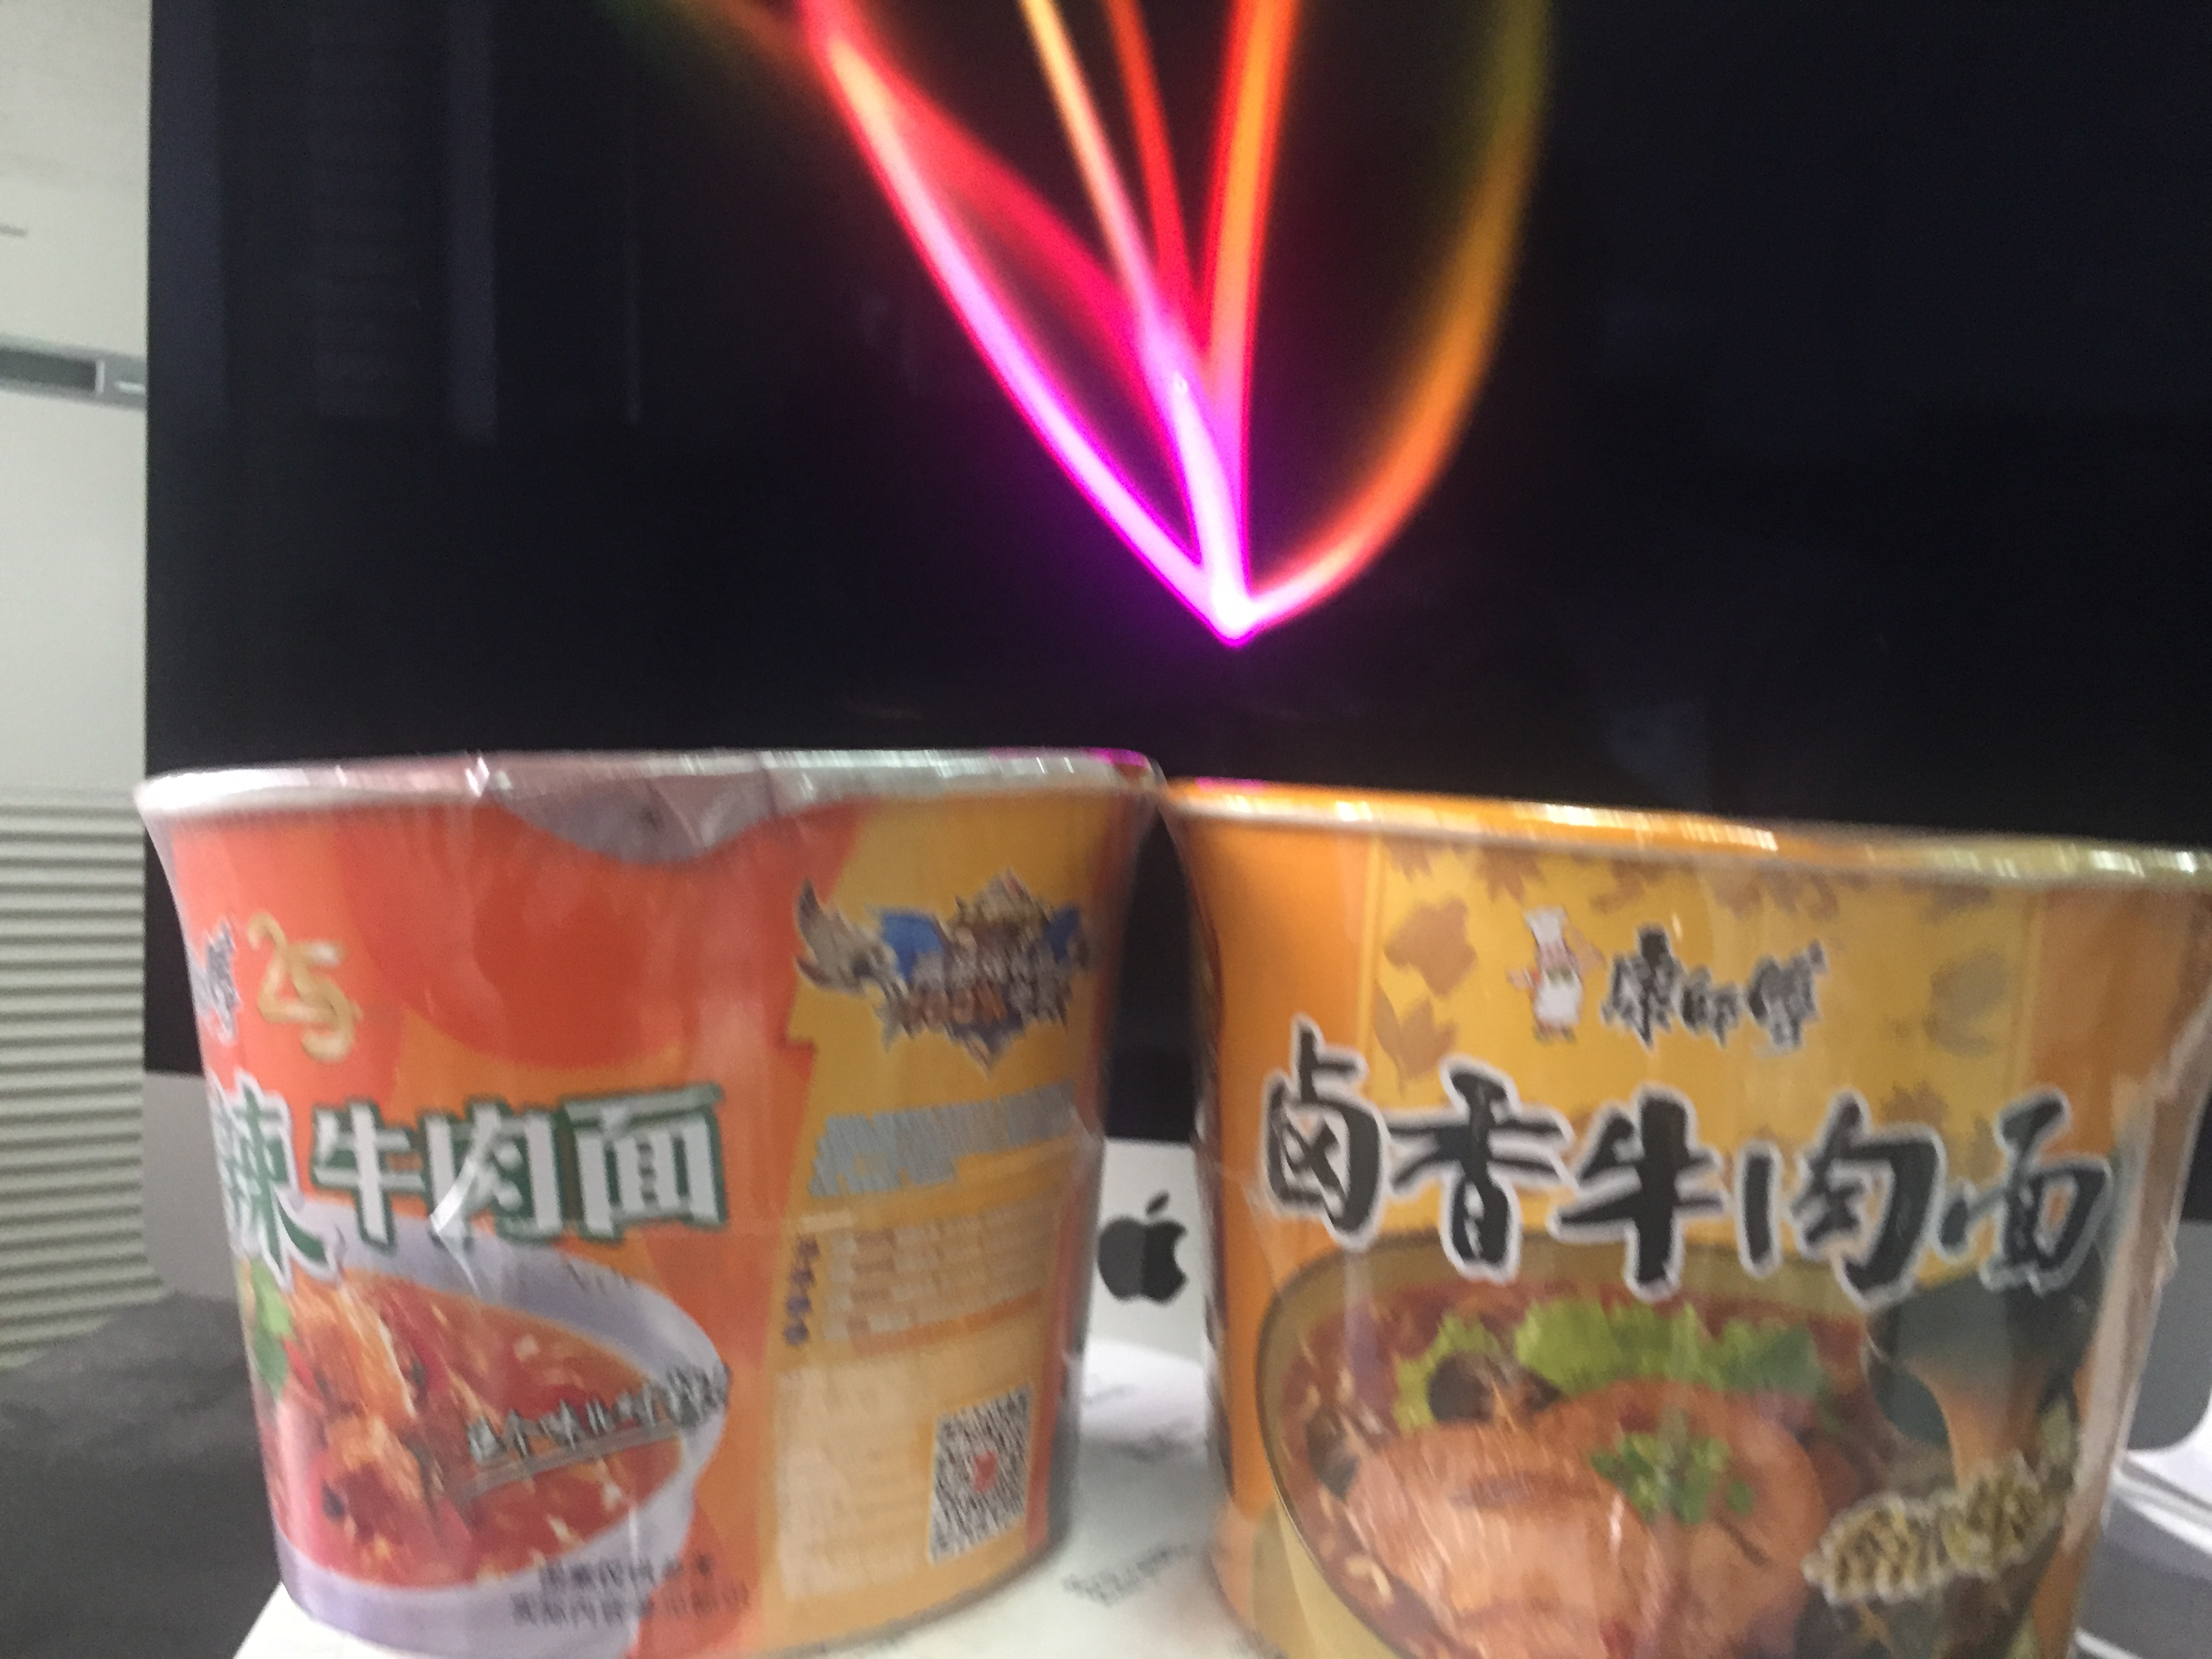luxiang: (1158, 774, 2212, 1659)
xiangla: (129, 748, 1157, 1659)
